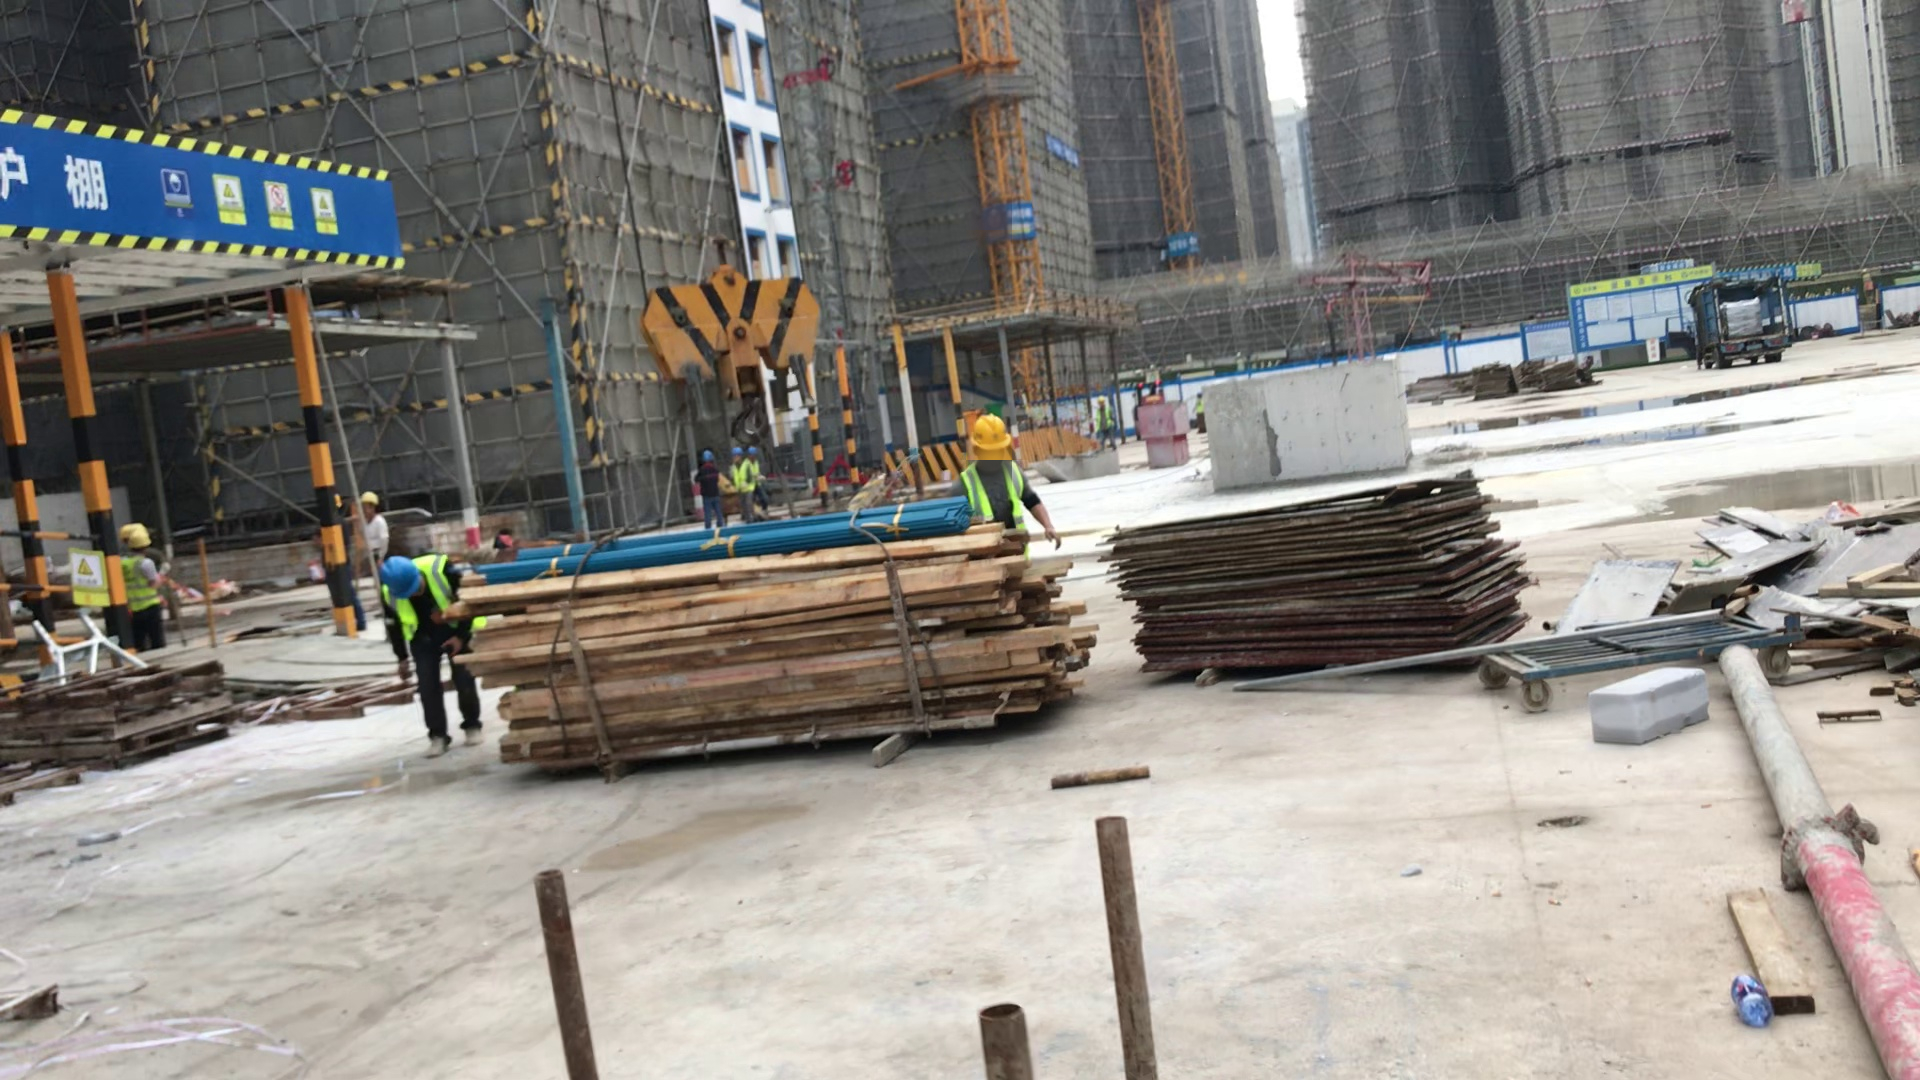helmet: (380, 556, 422, 599), (971, 416, 1013, 449), (129, 529, 150, 548), (359, 491, 378, 506), (703, 449, 715, 461), (732, 448, 742, 455)
person: (373, 555, 483, 757), (956, 416, 1062, 556), (121, 529, 161, 651), (694, 449, 727, 533), (360, 492, 387, 589), (729, 449, 752, 523), (1094, 396, 1112, 450)
vest: (383, 556, 457, 629), (962, 464, 1026, 530), (121, 559, 160, 612), (731, 462, 751, 494), (1094, 407, 1109, 431)
